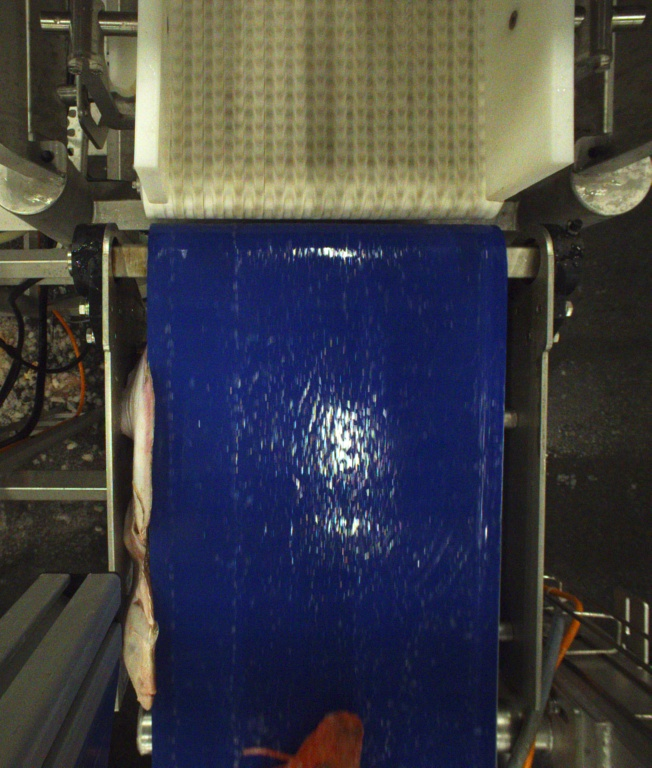GUU: (244, 702, 367, 768)
